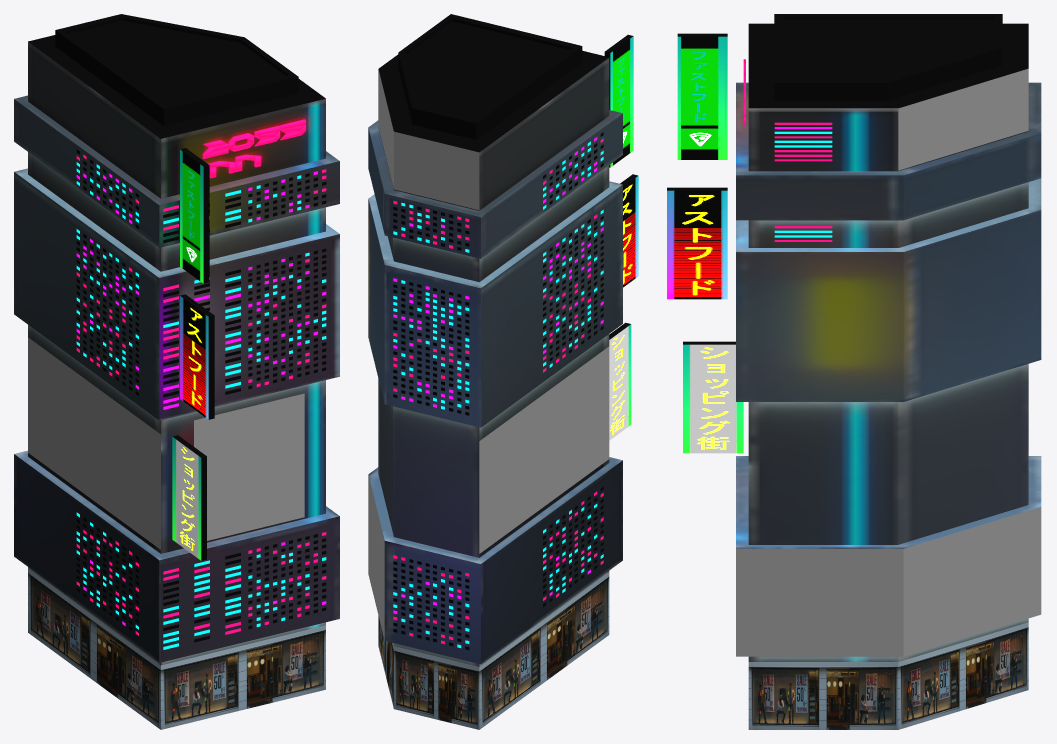
File: BLD1310017.fbx
3 renders of one model, left to right at view 1: azimuth 30°, elevation 25°; view 2: azimuth 150°, elevation 25°; view 3: azimuth 270°, elevation 25°, orthographic. The views are drawn at different scales.
Visible parts, largest first — view 1: smBLD1310017; view 2: smBLD1310017; view 3: smBLD1310017.
Boxes of the visible parts, left/top/right/bottom form: smBLD1310017: left=14, top=14, right=339, bottom=729; smBLD1310017: left=368, top=14, right=638, bottom=729; smBLD1310017: left=667, top=14, right=1041, bottom=729.
Bounding box in the file's own units: 794 × 2548 × 1358.
Materials: 4 (2 with a texture image).
